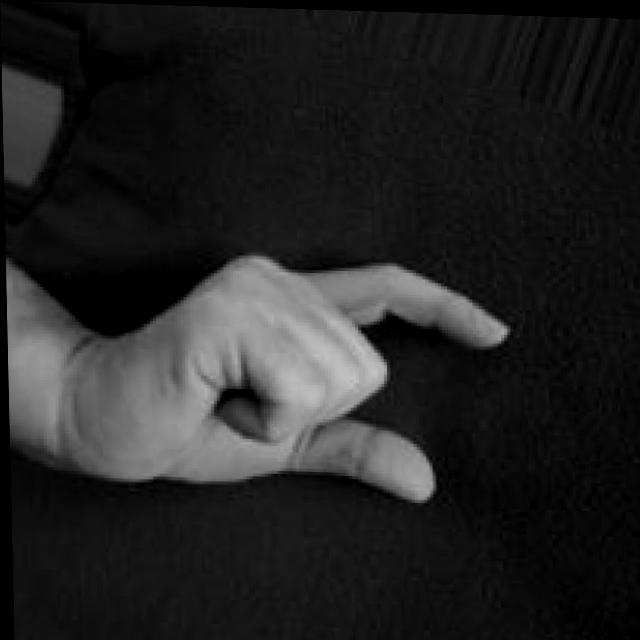C: (87, 247, 519, 512)
